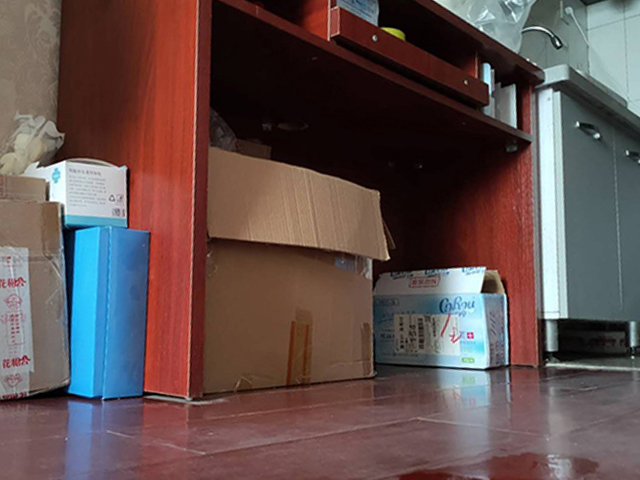cabinet: (537, 60, 640, 363)
table: (53, 1, 548, 403)
